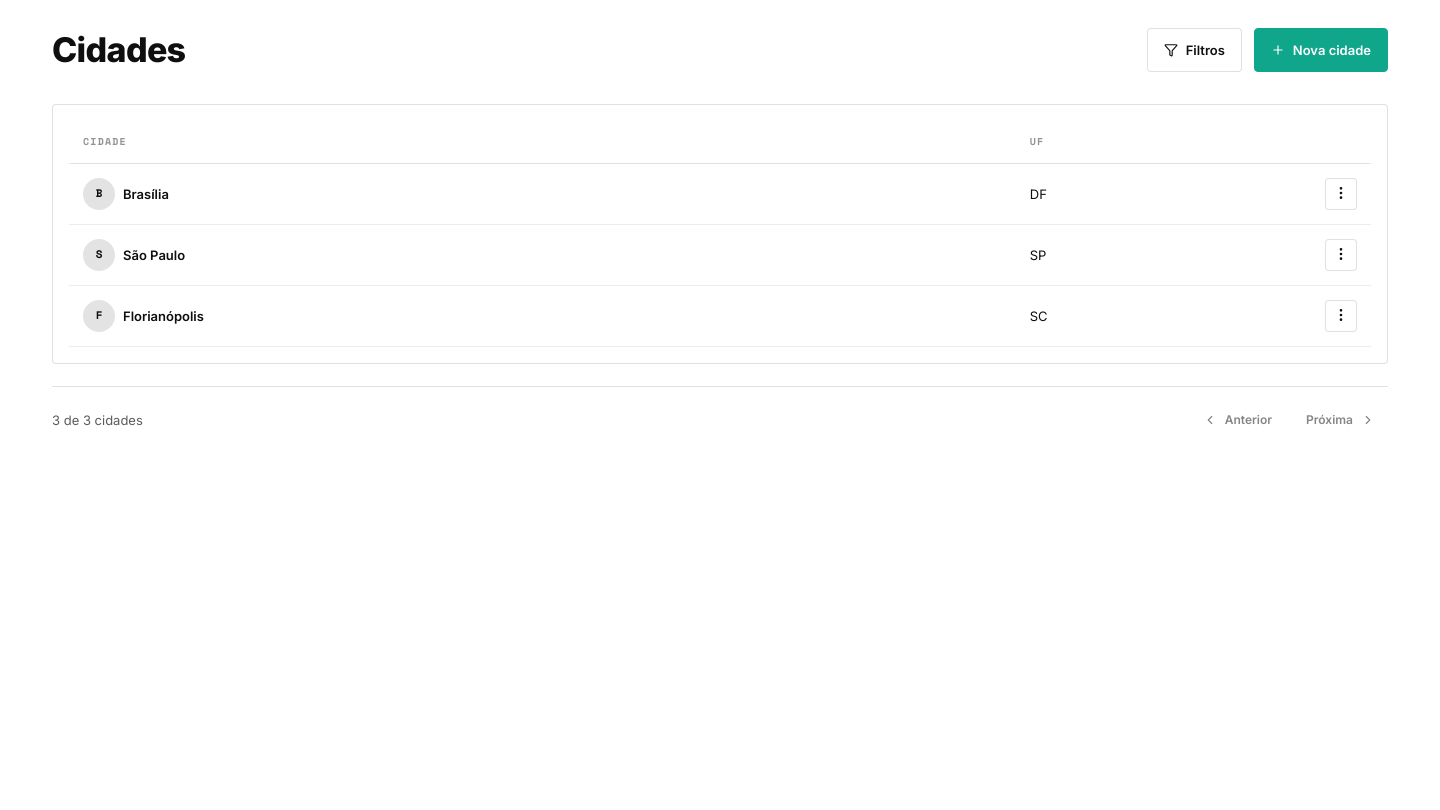
Test: Catalog (Cidades) › filtra a lista por nome ou UF
The width and height of the screenshot is (1440, 810).
Click the button "Filtros".
click(1194, 50)  # box top-left (1147, 28), bottom-right (1242, 72)
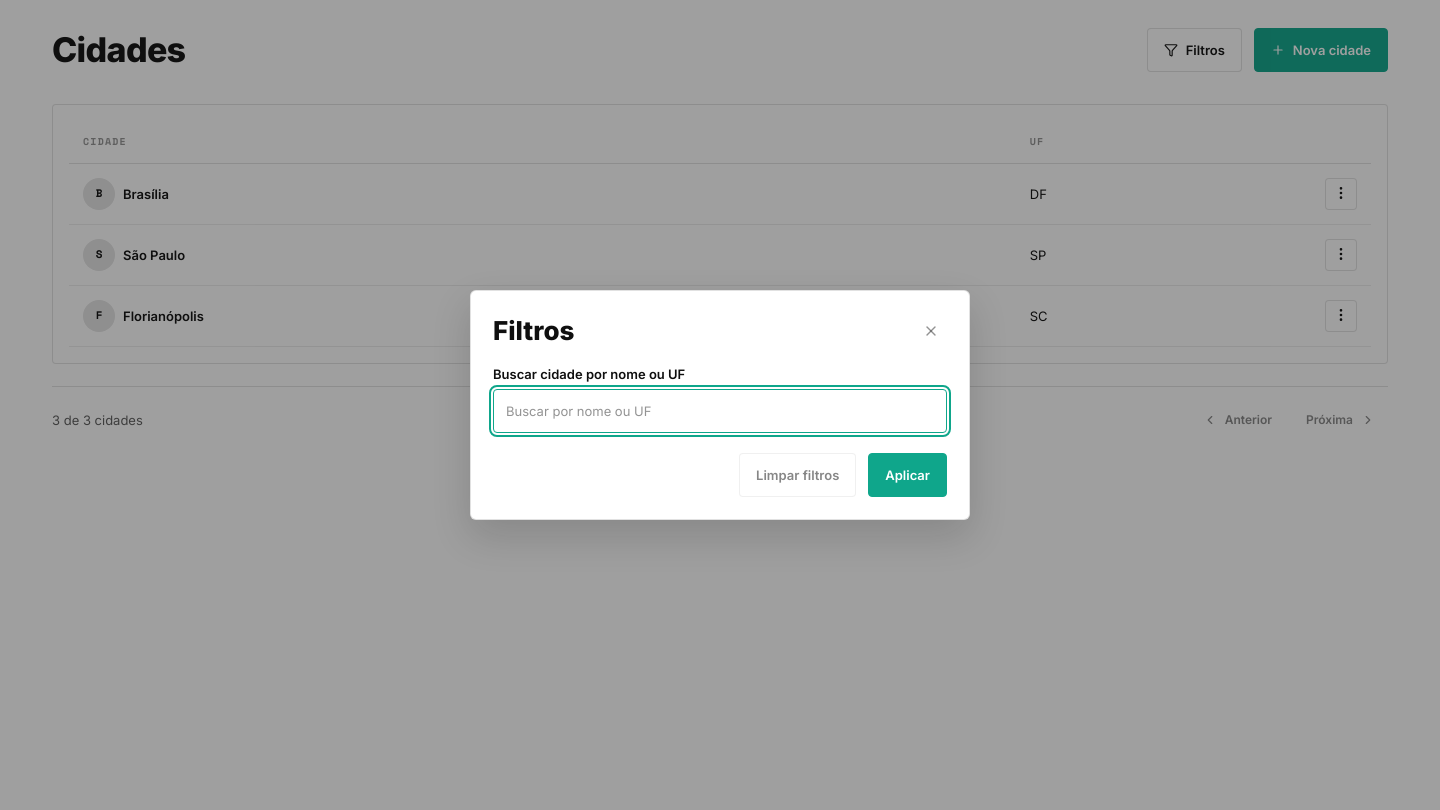
Type "sc" into the search field labelled "Buscar cidade por nome ou UF".
click(720, 411); type("sc")  # box top-left (493, 389), bottom-right (947, 433)
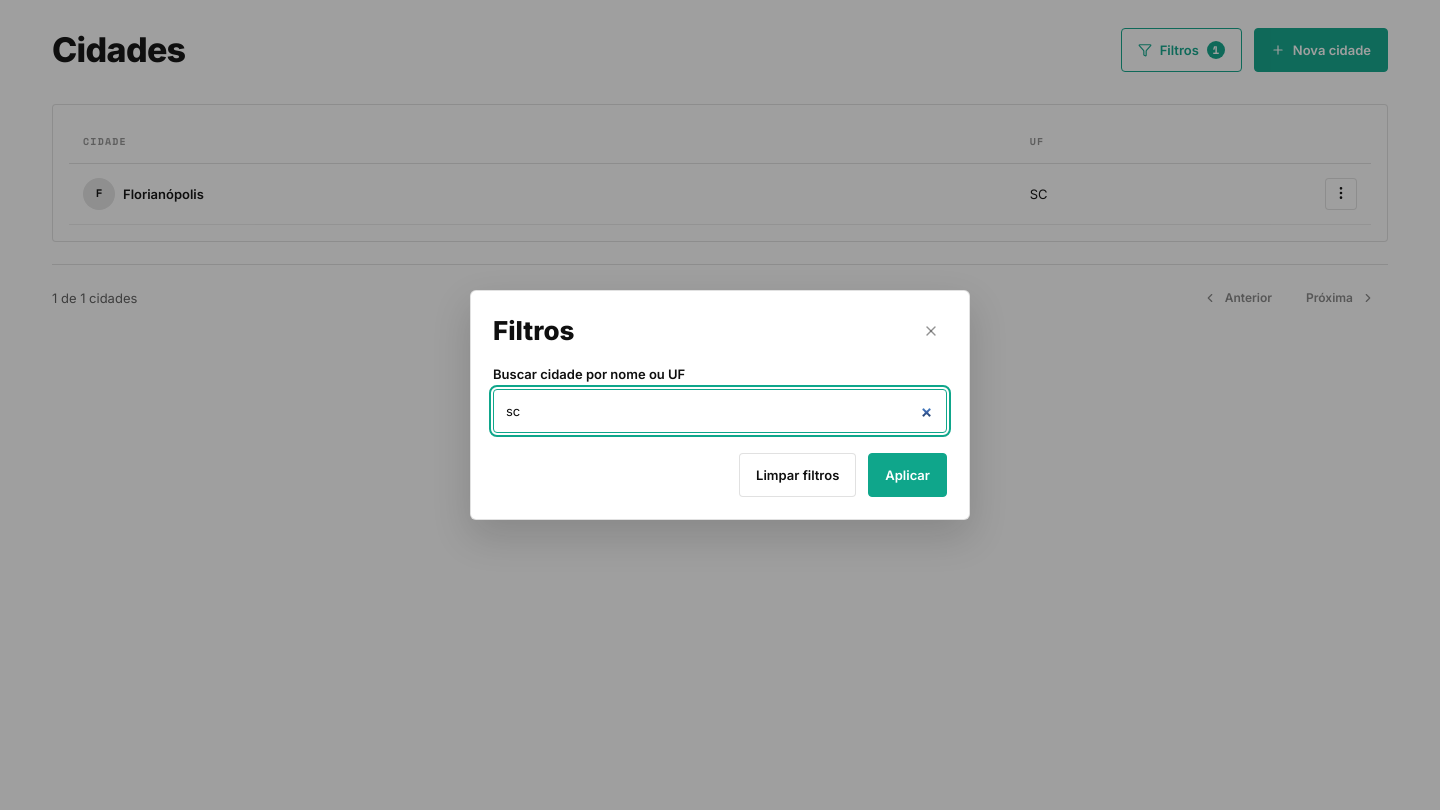
Expected: the text "Florianópolis" is shown, top-left (123, 185), bottom-right (204, 203)
Now the text "Brasília" is gone
